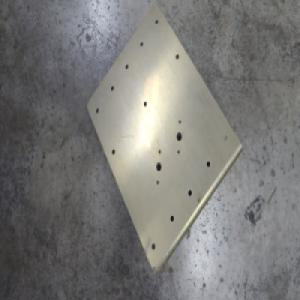MetalSheet: (84, 5, 243, 278)
